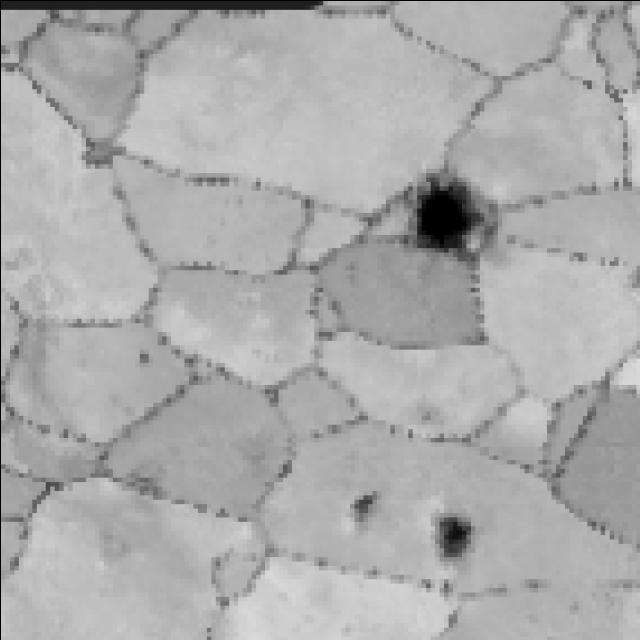good_void: (371, 143, 507, 289), (111, 456, 167, 513), (421, 510, 474, 563), (70, 128, 128, 175), (351, 491, 382, 528), (128, 339, 157, 373)
